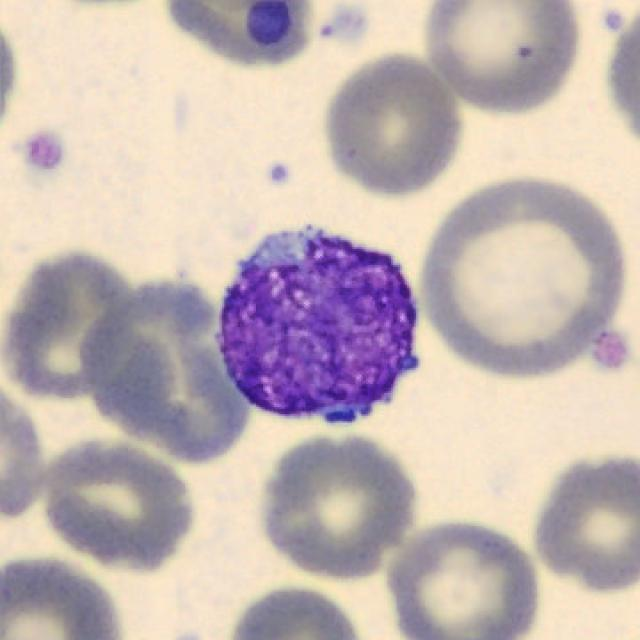Linfocito: (217, 226, 420, 423)
